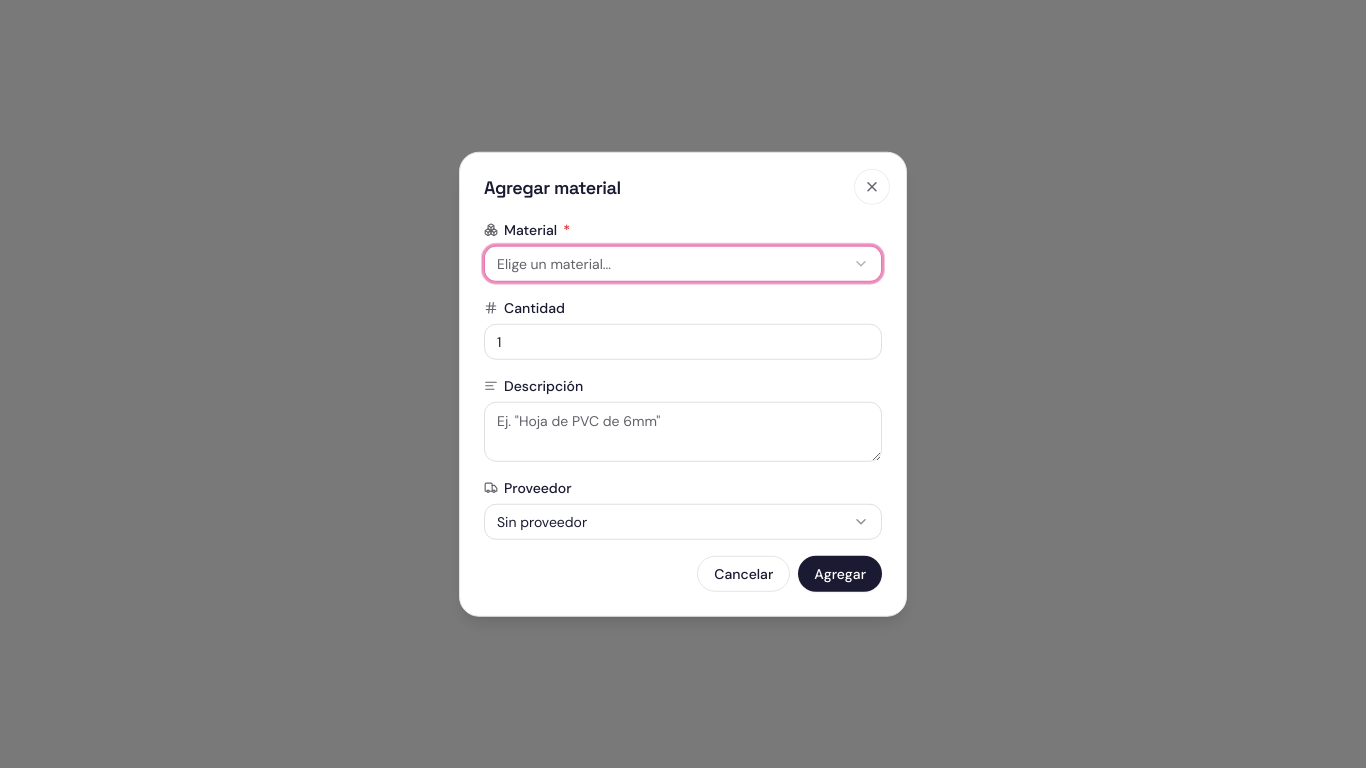
Test case: OrderMaterialDialog › autocompleta la descripción y el proveedor preferido al elegir un material
Click the dropdown labelled "Elige un material..." at (554, 263), box [484, 245, 882, 281]
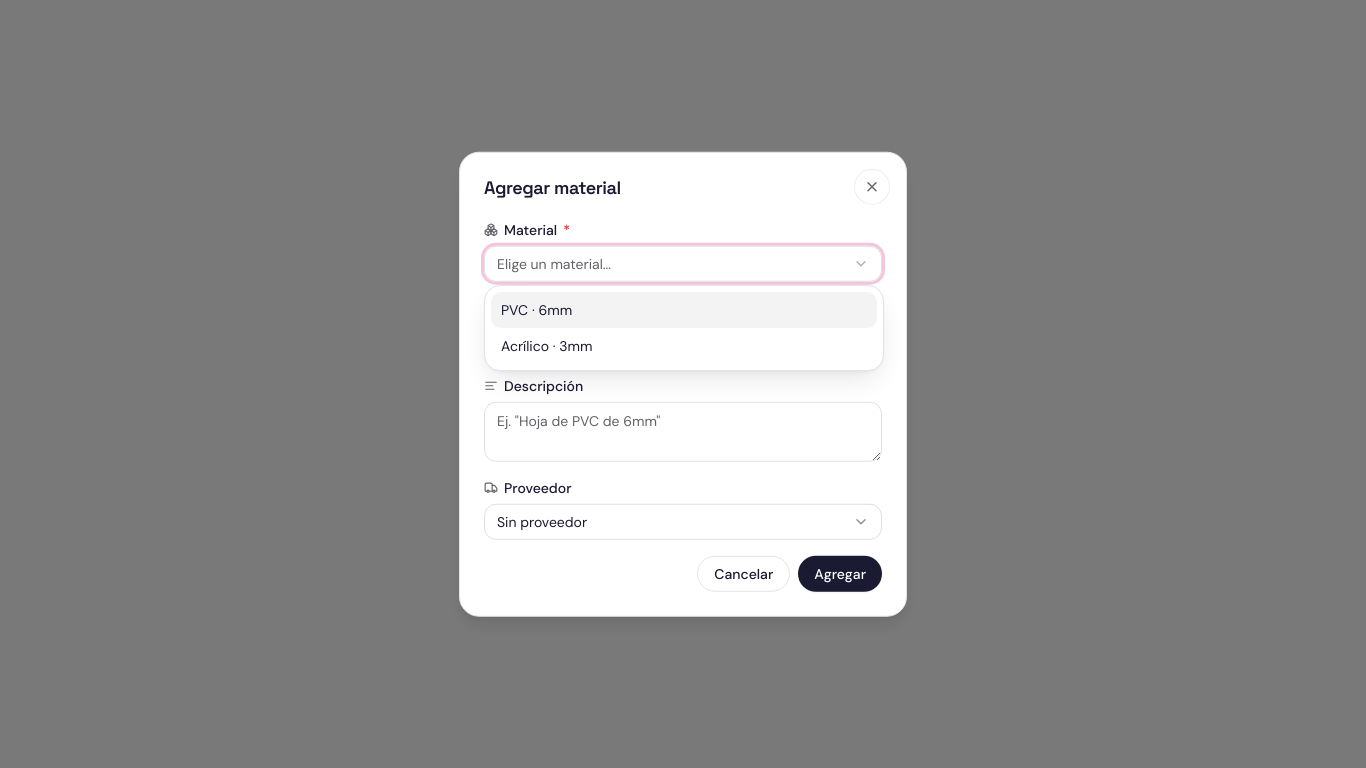
Click the option "PVC · 6mm" at (550, 310), box [491, 292, 877, 328]
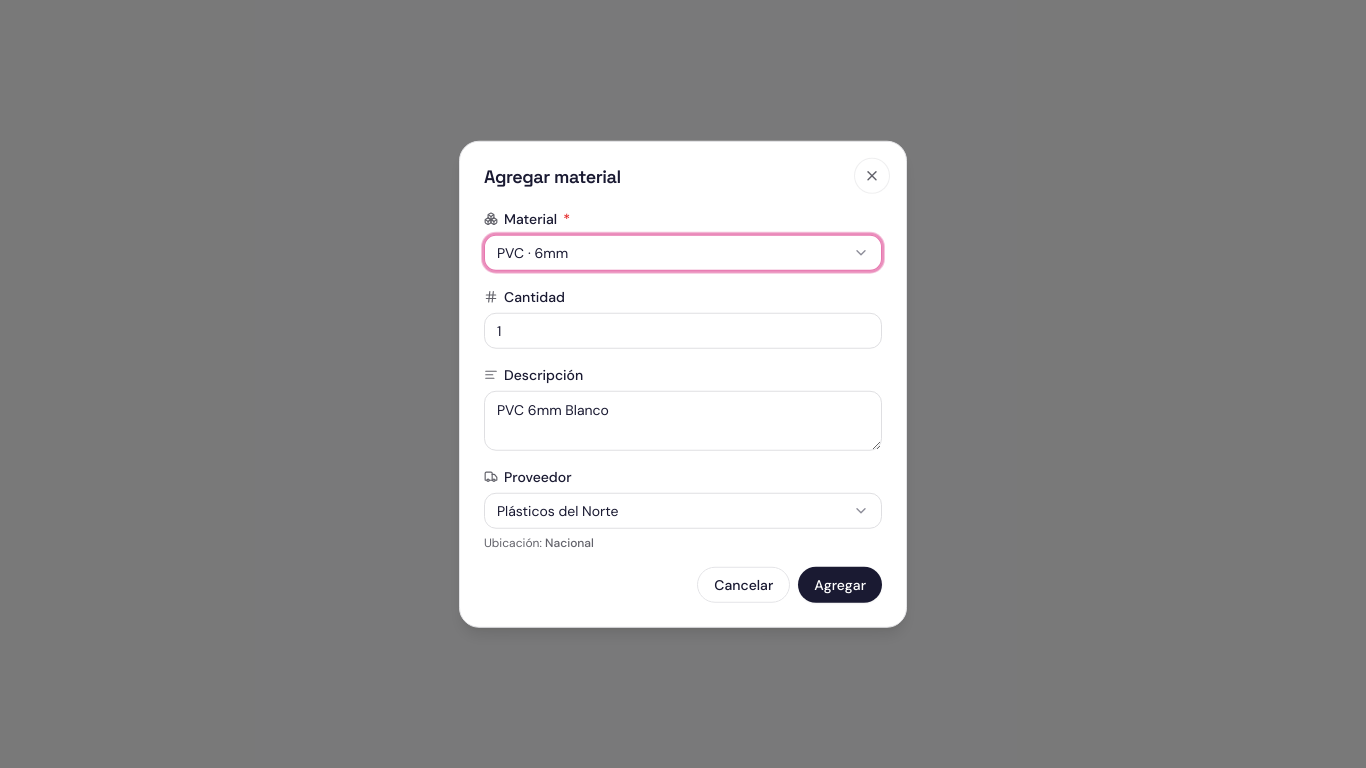
Check: the text box showing "PVC 6mm Blanco" is shown, box [484, 390, 882, 450]
Check: the text "Plásticos del Norte" is shown, box [497, 500, 618, 520]
Check: the text "Nacional" is shown, box [545, 534, 594, 550]
